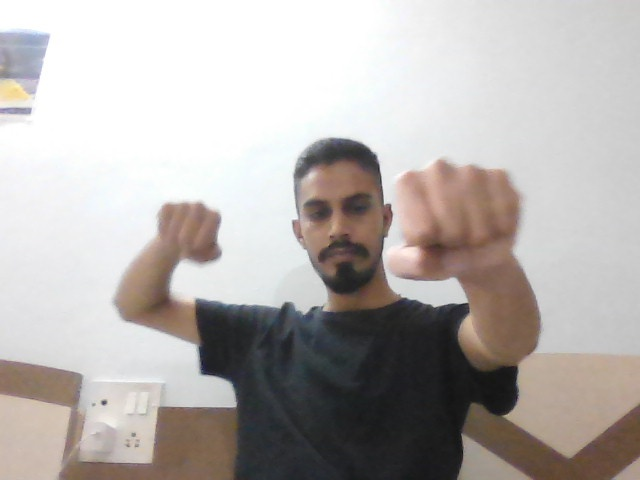Yes: (150, 197, 243, 264)
